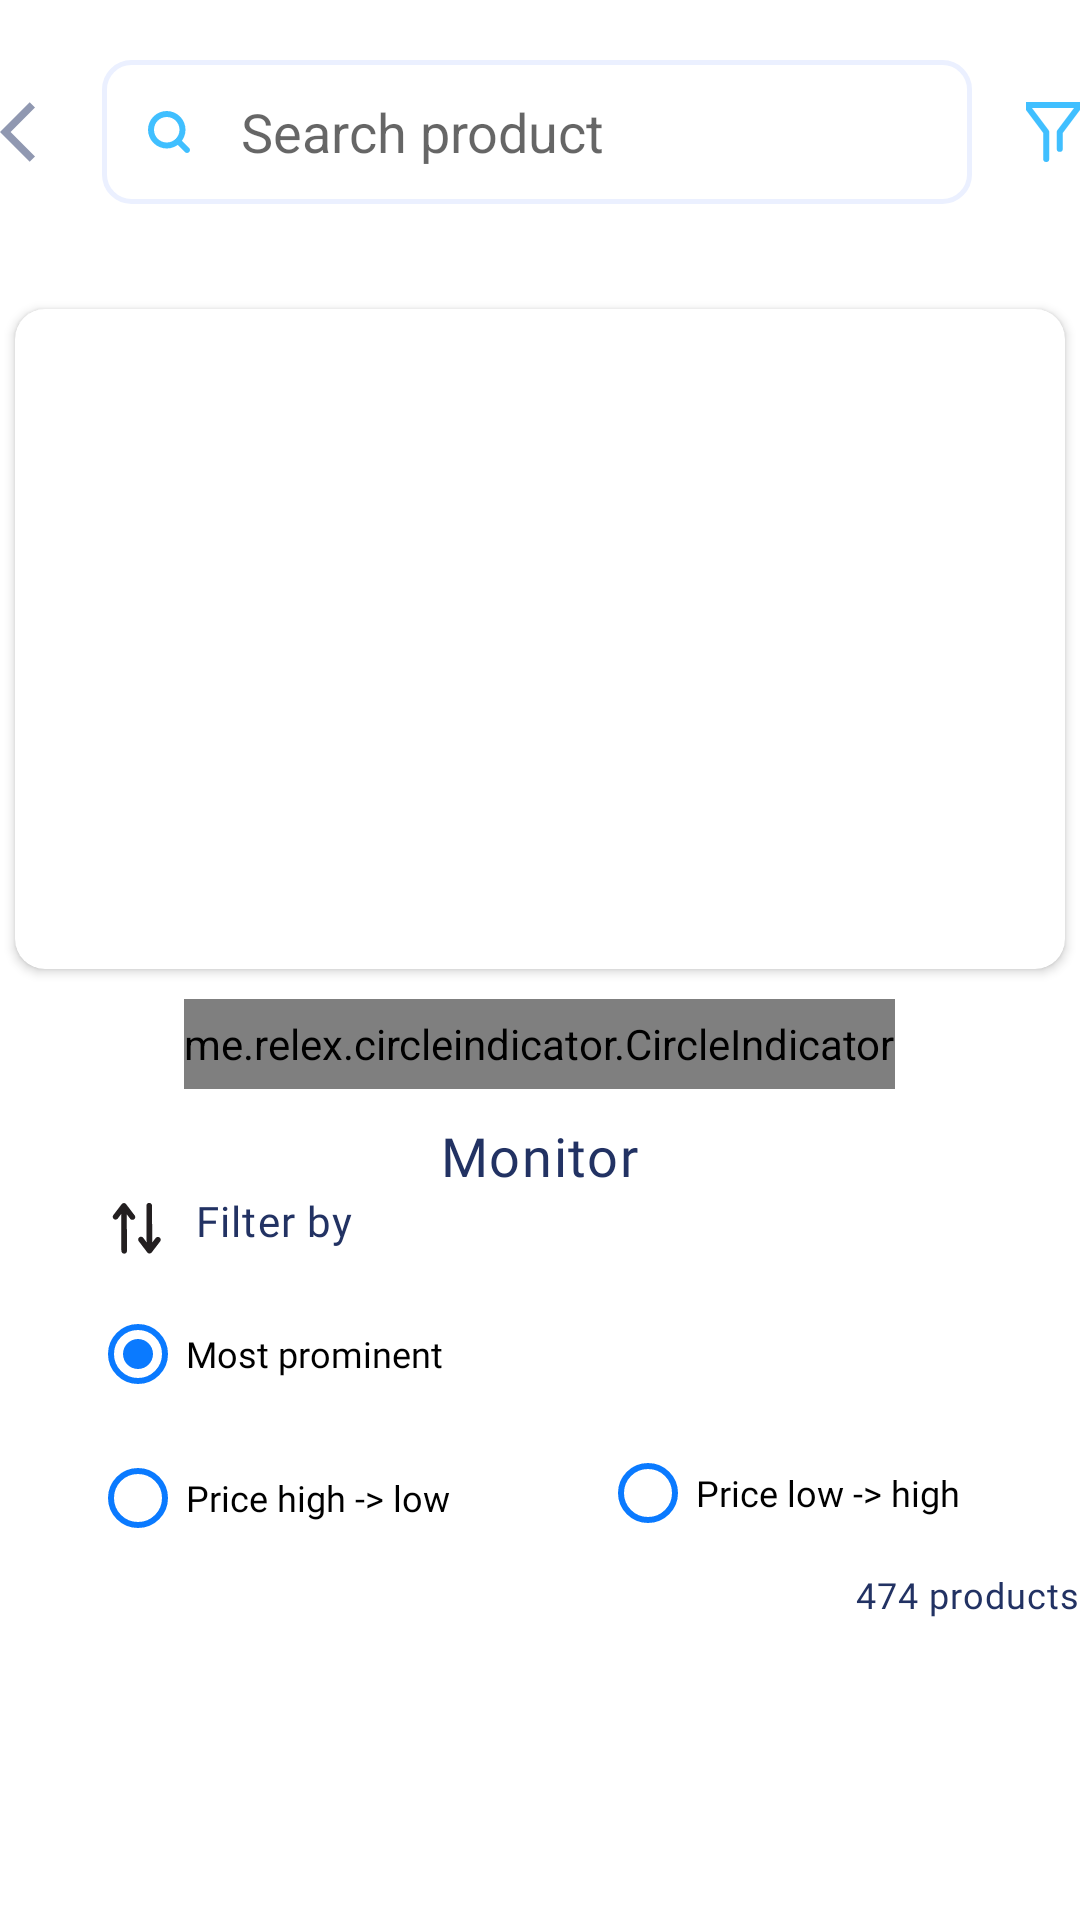

Where icons sit on this 1080 × 1920 app screen, as (x1, y1, x2, y2):
back: (0, 102, 35, 162)
filter: (1026, 102, 1080, 162)
sort: (112, 1203, 161, 1254)
